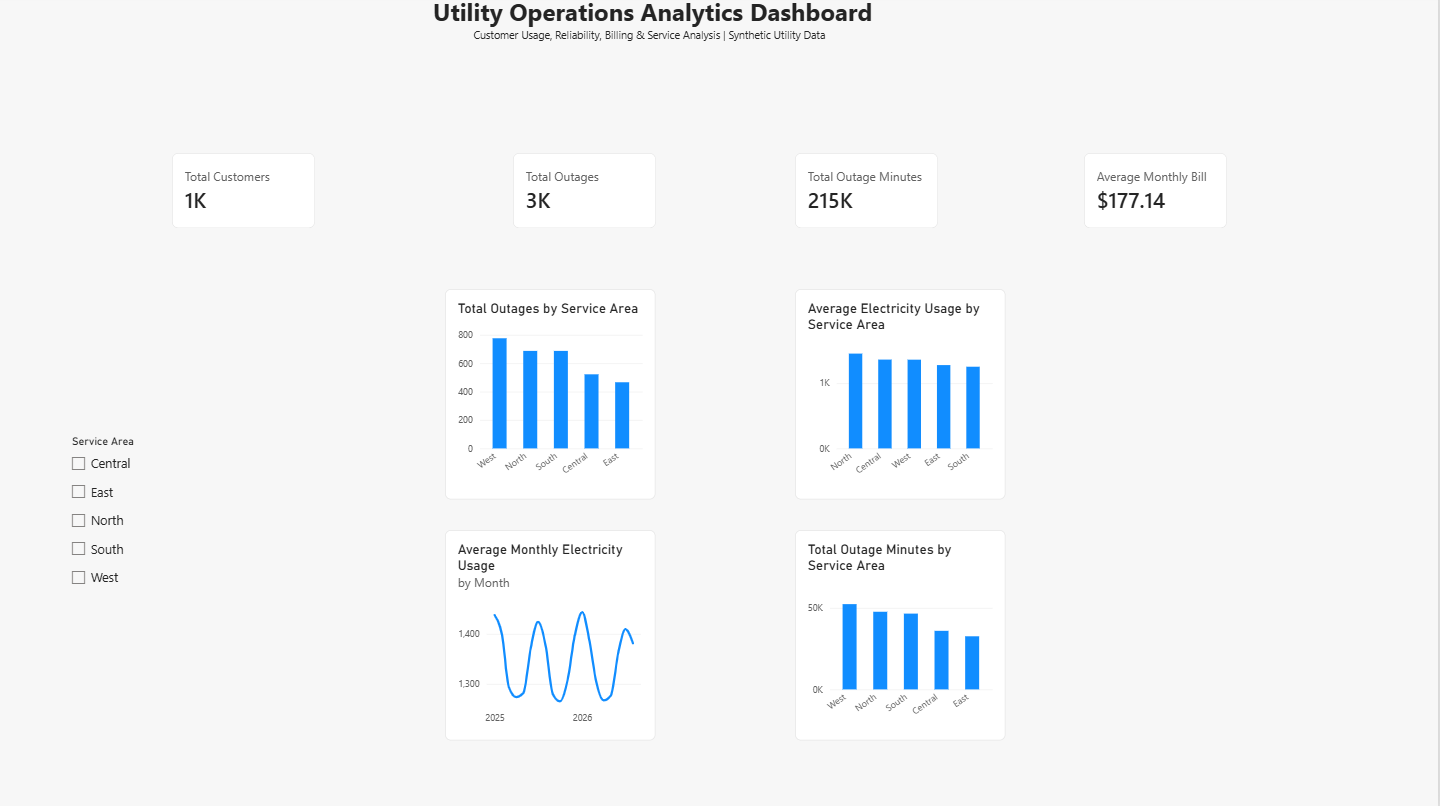

This screenshot's page, from the dashboard's own definition file:
{"tool":"powerbi","page":{"name":"Page 1","canvas":[1920,1080],"ordinal":0},"visuals":[{"type":"cardVisual","fields":{"Data":["Count(Midwest_Electric_Utility_Analytics.Customer_ID)"]},"box":[236.4,210.1,190,100],"z":0},{"type":"cardVisual","fields":{"Data":["Sum(Midwest_Electric_Utility_Analytics.Outage_Count)"]},"box":[690.1,210.1,190,100],"z":1},{"type":"cardVisual","fields":{"Data":["Sum(Midwest_Electric_Utility_Analytics.Outage_Minutes)"]},"box":[1065,210.1,190,100],"z":2},{"type":"cardVisual","fields":{"Data":["Avg(Midwest_Electric_Utility_Analytics.Bill_Amount)"]},"box":[1450.2,210.1,190,100],"z":3},{"type":"clusteredColumnChart","title":"Total Outages by Service Area","fields":{"Category":["Midwest_Electric_Utility_Analytics.Service_Area"],"Y":["Sum(Midwest_Electric_Utility_Analytics.Outage_Count)"]},"box":[599.6,391,280,280],"z":4},{"type":"clusteredColumnChart","title":"Average Electricity Usage by Service Area","fields":{"Category":["Midwest_Electric_Utility_Analytics.Service_Area"],"Y":["Avg(Midwest_Electric_Utility_Analytics.kWh_Usage)"]},"box":[1065,391,280,280],"z":5},{"type":"lineChart","fields":{"Category":["Midwest_Electric_Utility_Analytics.Month"],"Y":["Avg(Midwest_Electric_Utility_Analytics.kWh_Usage)"]},"box":[599.6,712,280,280],"z":6},{"type":"clusteredColumnChart","title":"Total Outage Minutes by Service Area","fields":{"Category":["Midwest_Electric_Utility_Analytics.Service_Area"],"Y":["Sum(Midwest_Electric_Utility_Analytics.Outage_Minutes)"]},"box":[1065,712,280,280],"z":7},{"type":"slicer","fields":{"Values":["Midwest_Electric_Utility_Analytics.Service_Area"]},"box":[96.3,585,194,208.6],"z":8},{"type":"textbox","box":[583.6,0,590.9,132.8],"z":9}]}

Visuals, with their boxes in screenshot pixels (x1, y1, x2, y2), scaled from the page's 1920x1080 canvas onto the 1440x806 screenshot:
cardVisual - Count(Midwest_Electric_Utility_Analytics.Customer_ID): (177,157,320,231)
cardVisual - Sum(Midwest_Electric_Utility_Analytics.Outage_Count): (518,157,660,231)
cardVisual - Sum(Midwest_Electric_Utility_Analytics.Outage_Minutes): (799,157,941,231)
cardVisual - Avg(Midwest_Electric_Utility_Analytics.Bill_Amount): (1088,157,1230,231)
"Total Outages by Service Area" clusteredColumnChart: (450,292,660,501)
"Average Electricity Usage by Service Area" clusteredColumnChart: (799,292,1009,501)
lineChart - Midwest_Electric_Utility_Analytics.Month x Avg(Midwest_Electric_Utility_Analytics.kWh_Usage): (450,531,660,740)
"Total Outage Minutes by Service Area" clusteredColumnChart: (799,531,1009,740)
slicer - Midwest_Electric_Utility_Analytics.Service_Area: (72,437,218,592)
textbox: (438,0,881,99)
